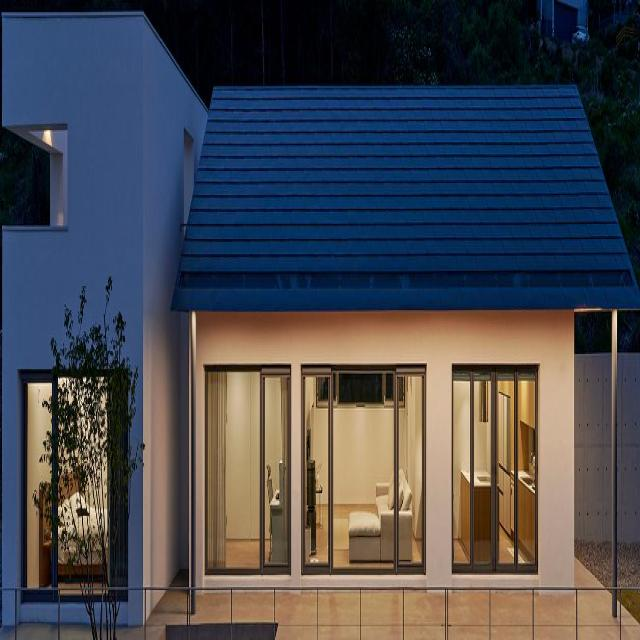door: (470, 368, 519, 575)
plant: (31, 283, 142, 588)
wall: (1, 11, 639, 625)
windows: (304, 371, 427, 572), (452, 364, 538, 572), (26, 382, 108, 594), (208, 367, 290, 572)
